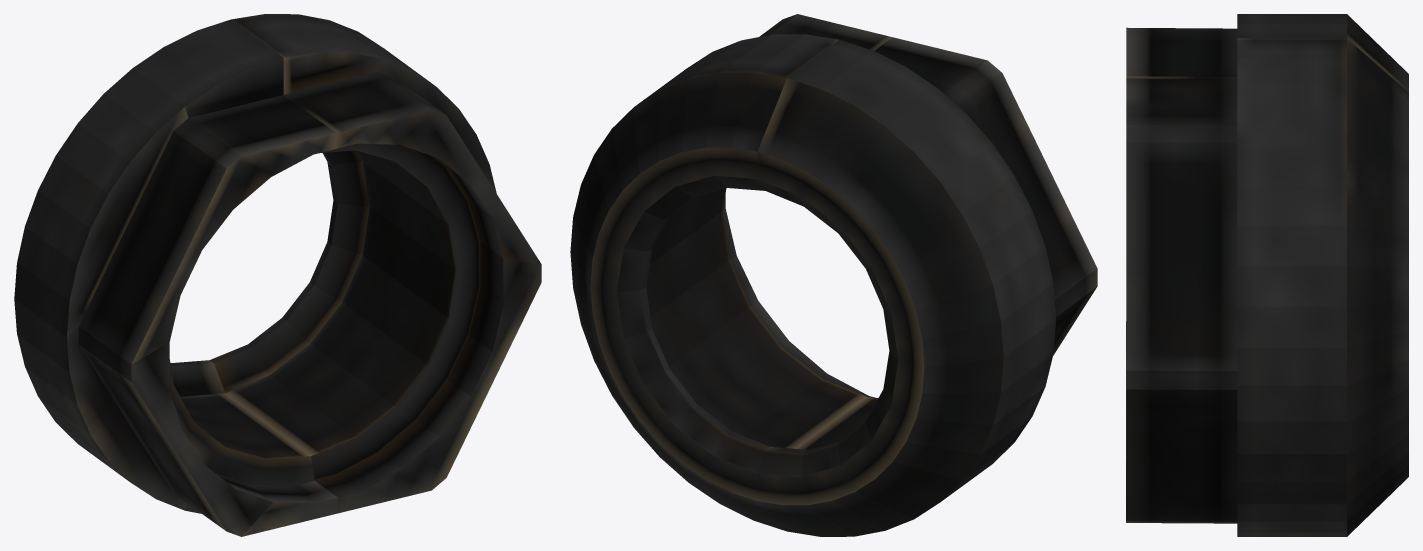
The picture shows the model from 3 angles, left to right: view 1: azimuth 30°, elevation 25°; view 2: azimuth 150°, elevation 25°; view 3: azimuth 270°, elevation 25°; orthographic projection. The views are drawn at different scales.
Parts seen in each view (by area): view 1: TW_5a6b59a08dc32e000b452fb7_PZ_Import; view 2: TW_5a6b59a08dc32e000b452fb7_PZ_Import; view 3: TW_5a6b59a08dc32e000b452fb7_PZ_Import.
Part boxes in pixels (x1,y1,x2,y2): TW_5a6b59a08dc32e000b452fb7_PZ_Import: (14, 14, 541, 536); TW_5a6b59a08dc32e000b452fb7_PZ_Import: (570, 14, 1097, 536); TW_5a6b59a08dc32e000b452fb7_PZ_Import: (1126, 14, 1408, 536).
Size of the model in its own units: 0.0112 by 0.00603 by 0.0112.
1 material, 1 textured.
